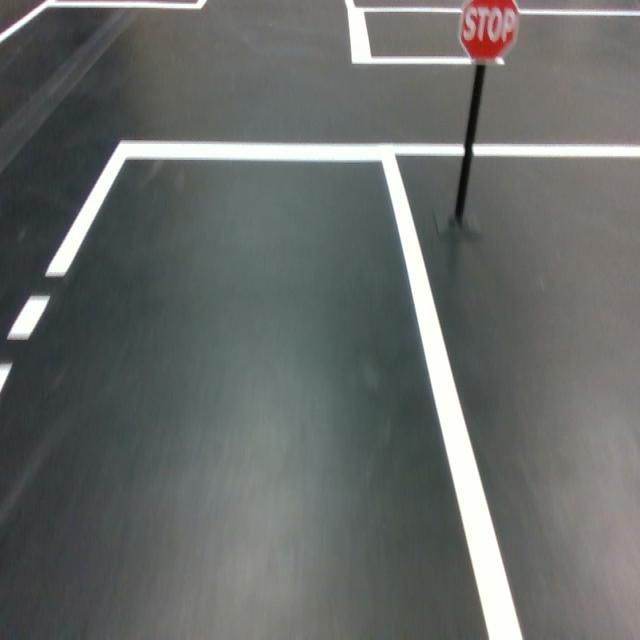stop-sign: (457, 0, 520, 62)
